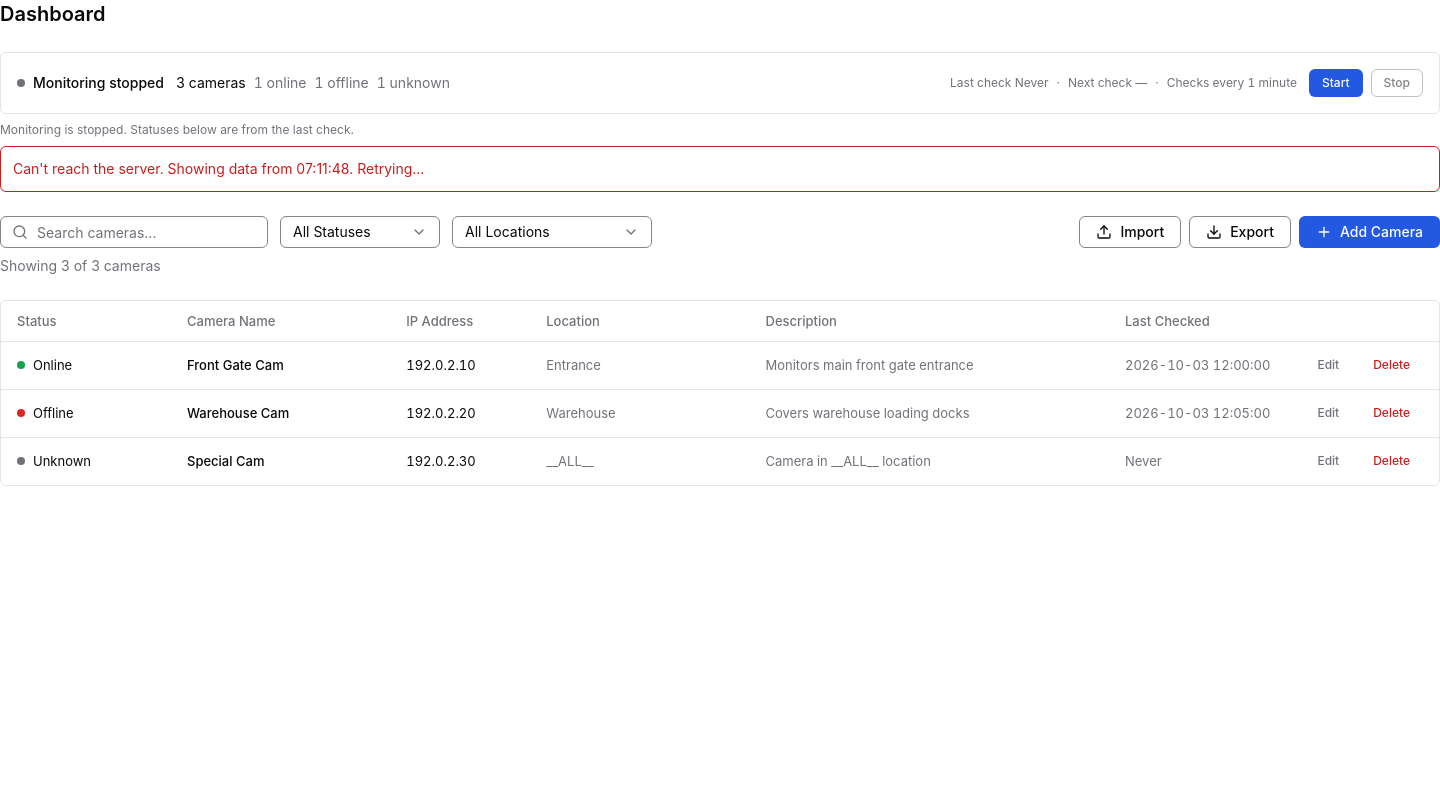
Test: DashboardPage component tests › shows IP change warning in edit dialog and toggles back when original IP is re-typed
This screenshot has width=1440, height=810.
Expected: the text "Front Gate Cam" is shown, [187,357,284,373]
Click the button with test id "edit-camera-1": (1328, 365) [1304,351,1352,379]
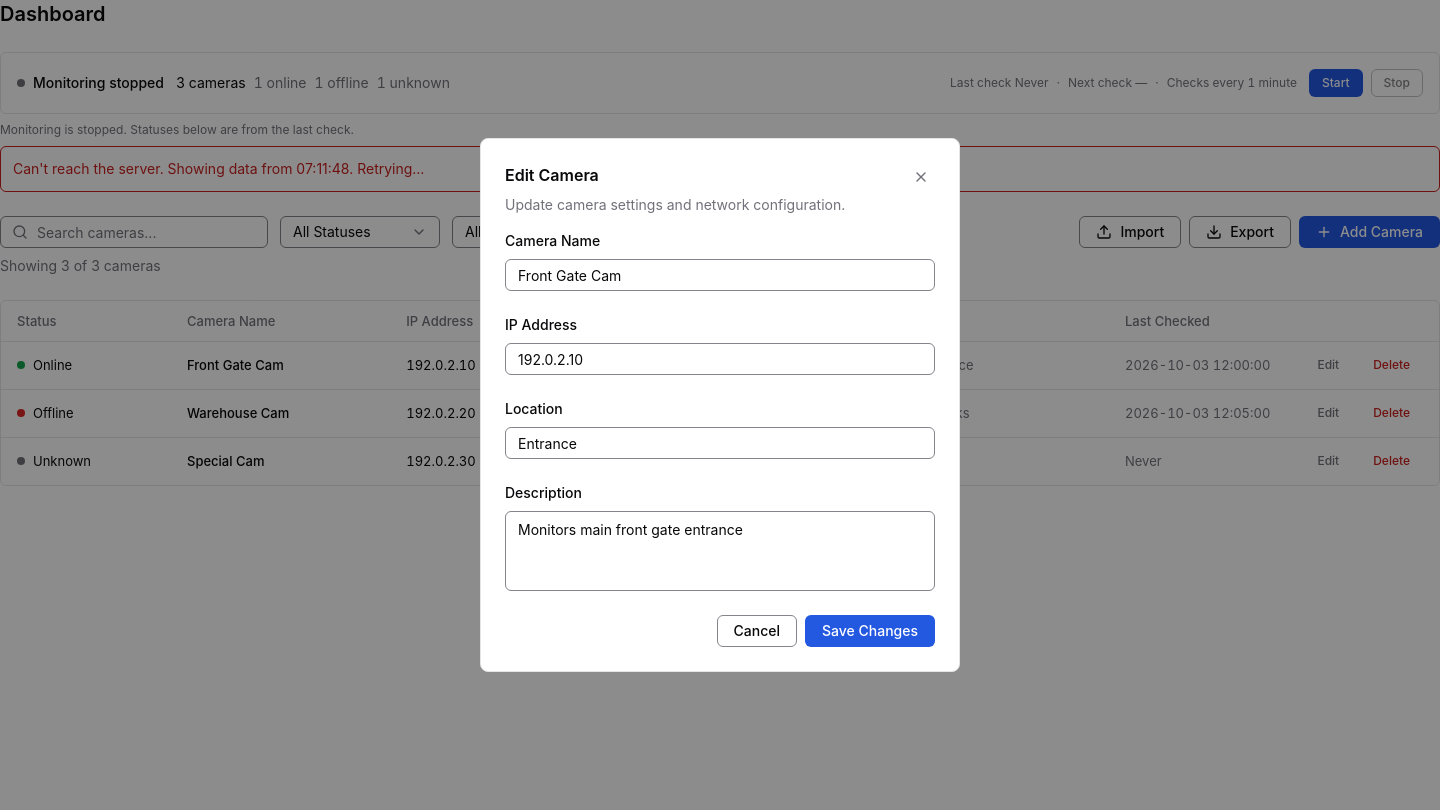
Result: the dialog with test id "camera-form-dialog" is shown at [480,138,960,672]
Result: the field with test id "camera-ip-input" holds "192.0.2.10"
# Change IP to another address
Replace the text in the field with test id "camera-ip-input" with "192.0.2.99": (720, 359) [505,343,935,375]
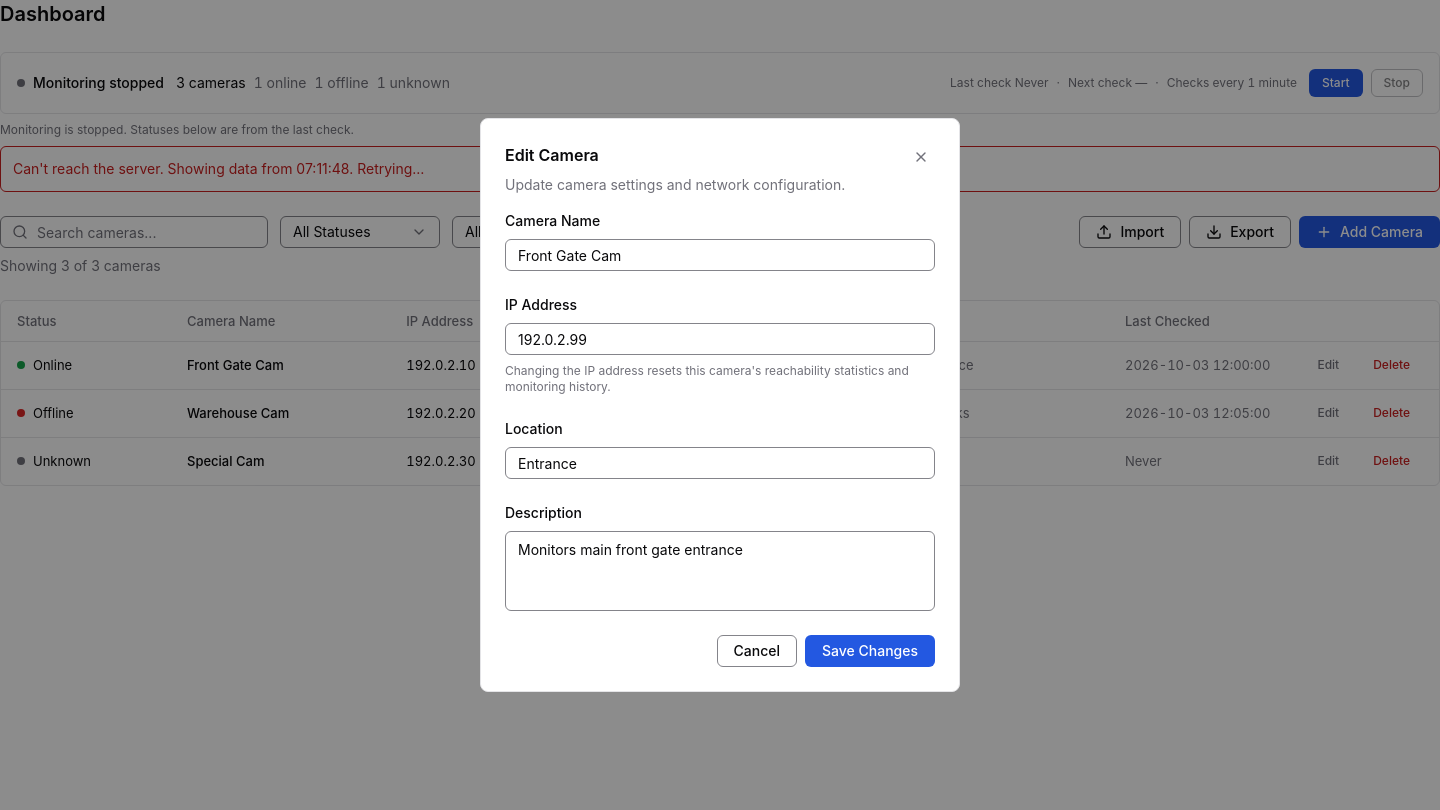
Result: the text with test id "ip-change-warning" is shown at [505,363,935,395]
Result: the text with test id "ip-change-warning" shows "Changing the IP address resets this camera's reachability statistics and monitoring history." at [505,363,909,394]
# Type back original IP
Replace the text in the field with test id "camera-ip-input" with "192.0.2.10": (720, 339) [505,323,935,355]
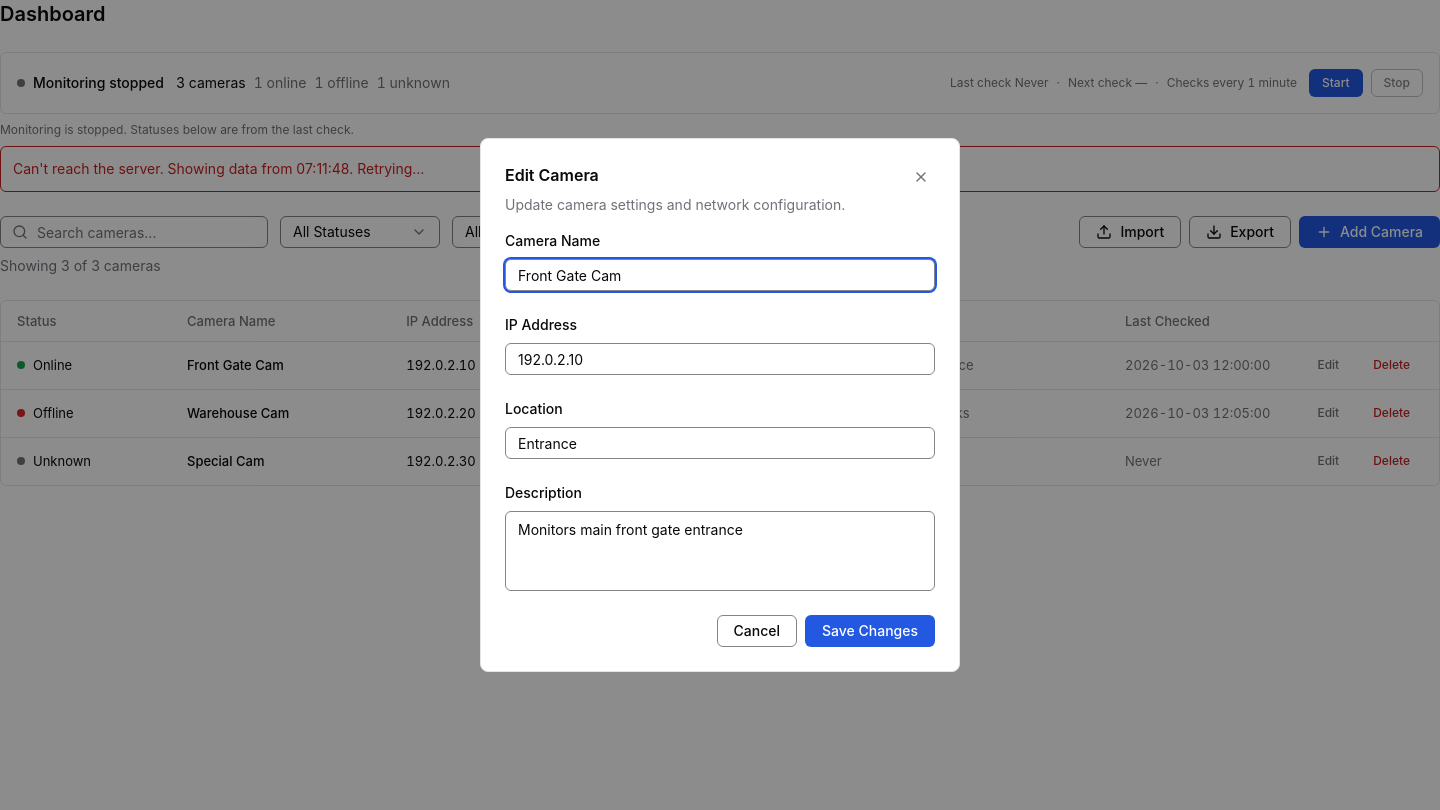
Result: the text with test id "ip-change-warning" is gone
